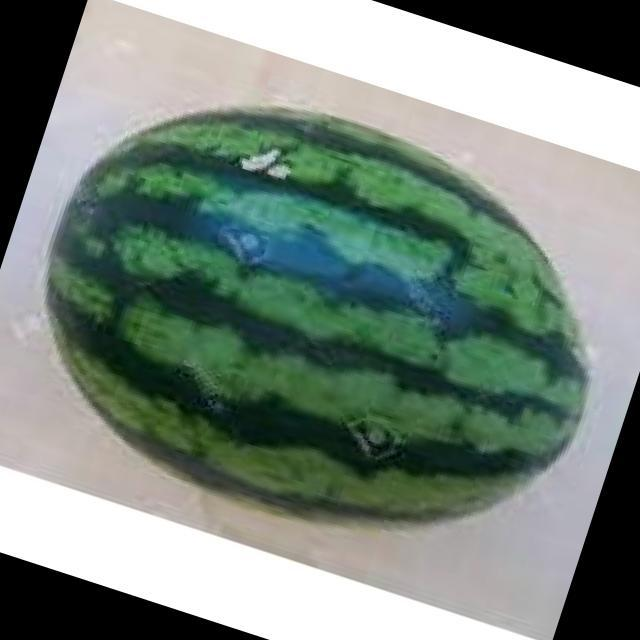watermelon: (49, 100, 587, 522)
